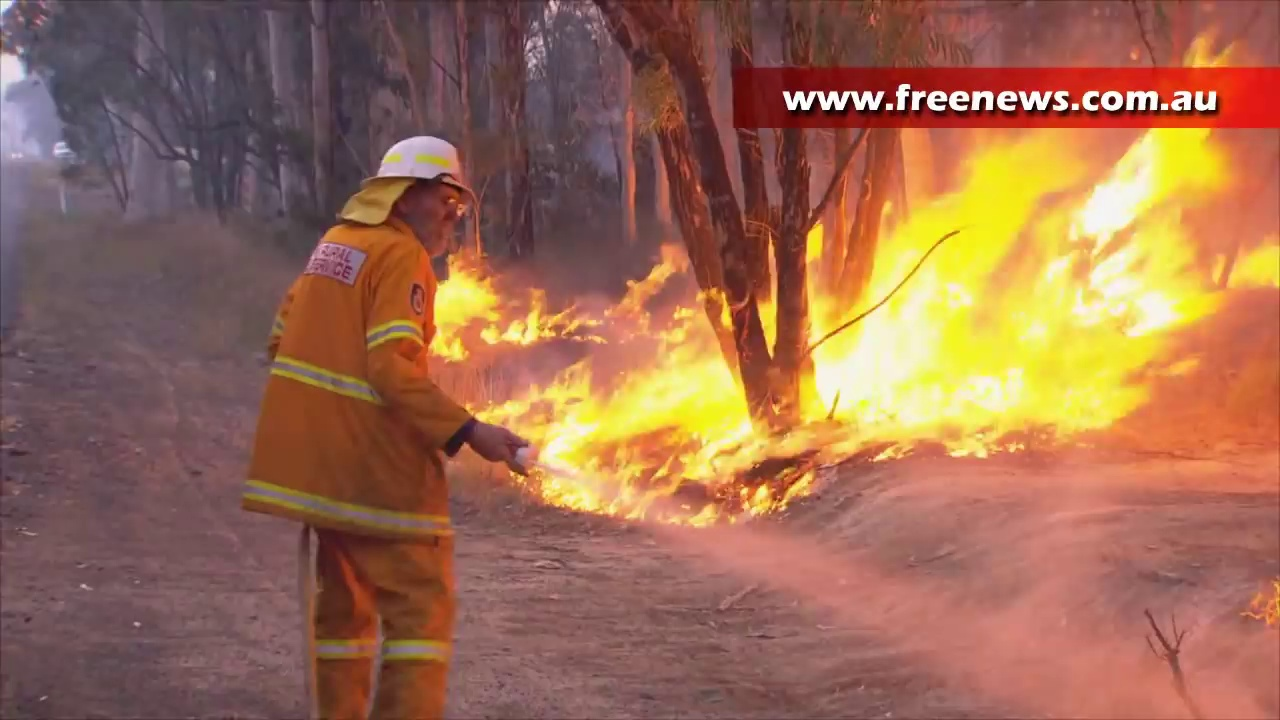fire: (805, 130, 1280, 460), (478, 341, 754, 523), (430, 270, 498, 363), (503, 287, 601, 348), (621, 245, 690, 317)
